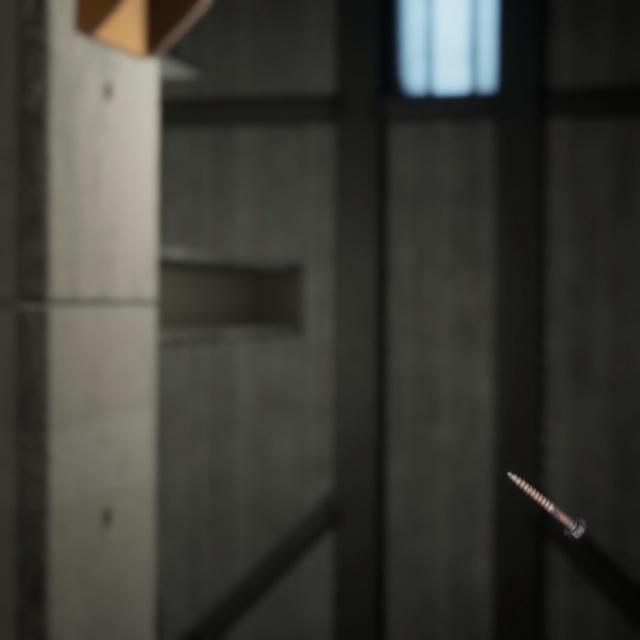bolt: (501, 445, 590, 522)
